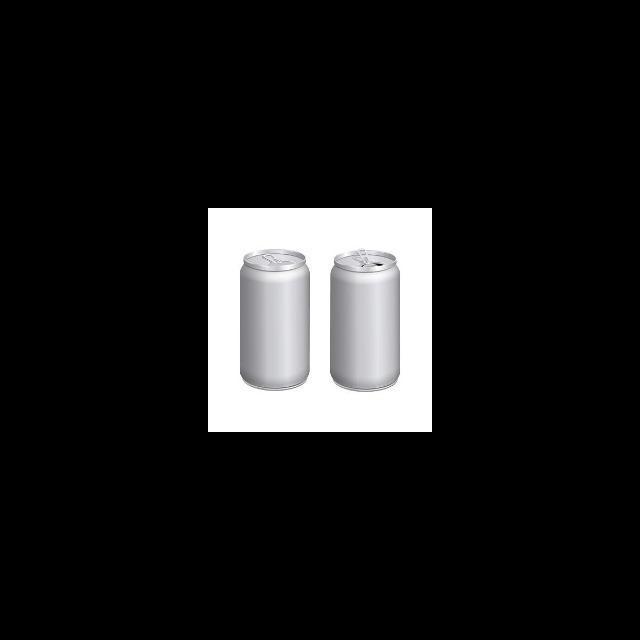metal: (234, 243, 315, 393), (325, 245, 403, 392)
